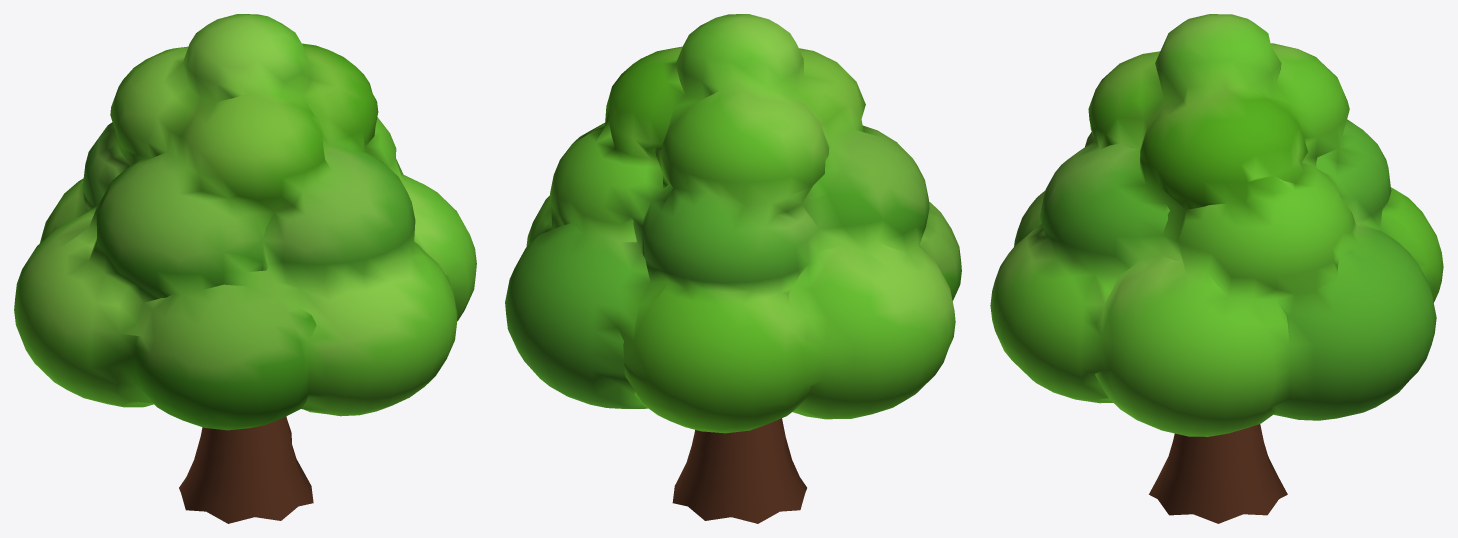
Rendered from pine-tree-118-lod1.obj.
3 views of the same model, side by side, from view 1: azimuth 30°, elevation 25°; view 2: azimuth 150°, elevation 25°; view 3: azimuth 270°, elevation 25° (orthographic).
Parts seen in each view (by area): view 1: simplified; view 2: simplified; view 3: simplified.
Part boxes in pixels (bbox=[...]): simplified: bbox=[14, 14, 476, 523]; simplified: bbox=[505, 14, 961, 523]; simplified: bbox=[990, 14, 1443, 523].
Size of the model in its own units: 258 by 283 by 245.
